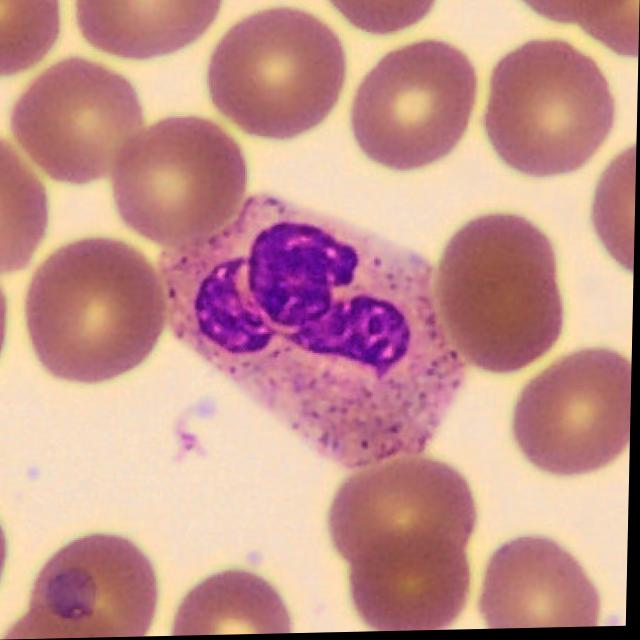Neutrofilo segmentado: (162, 195, 466, 470)
